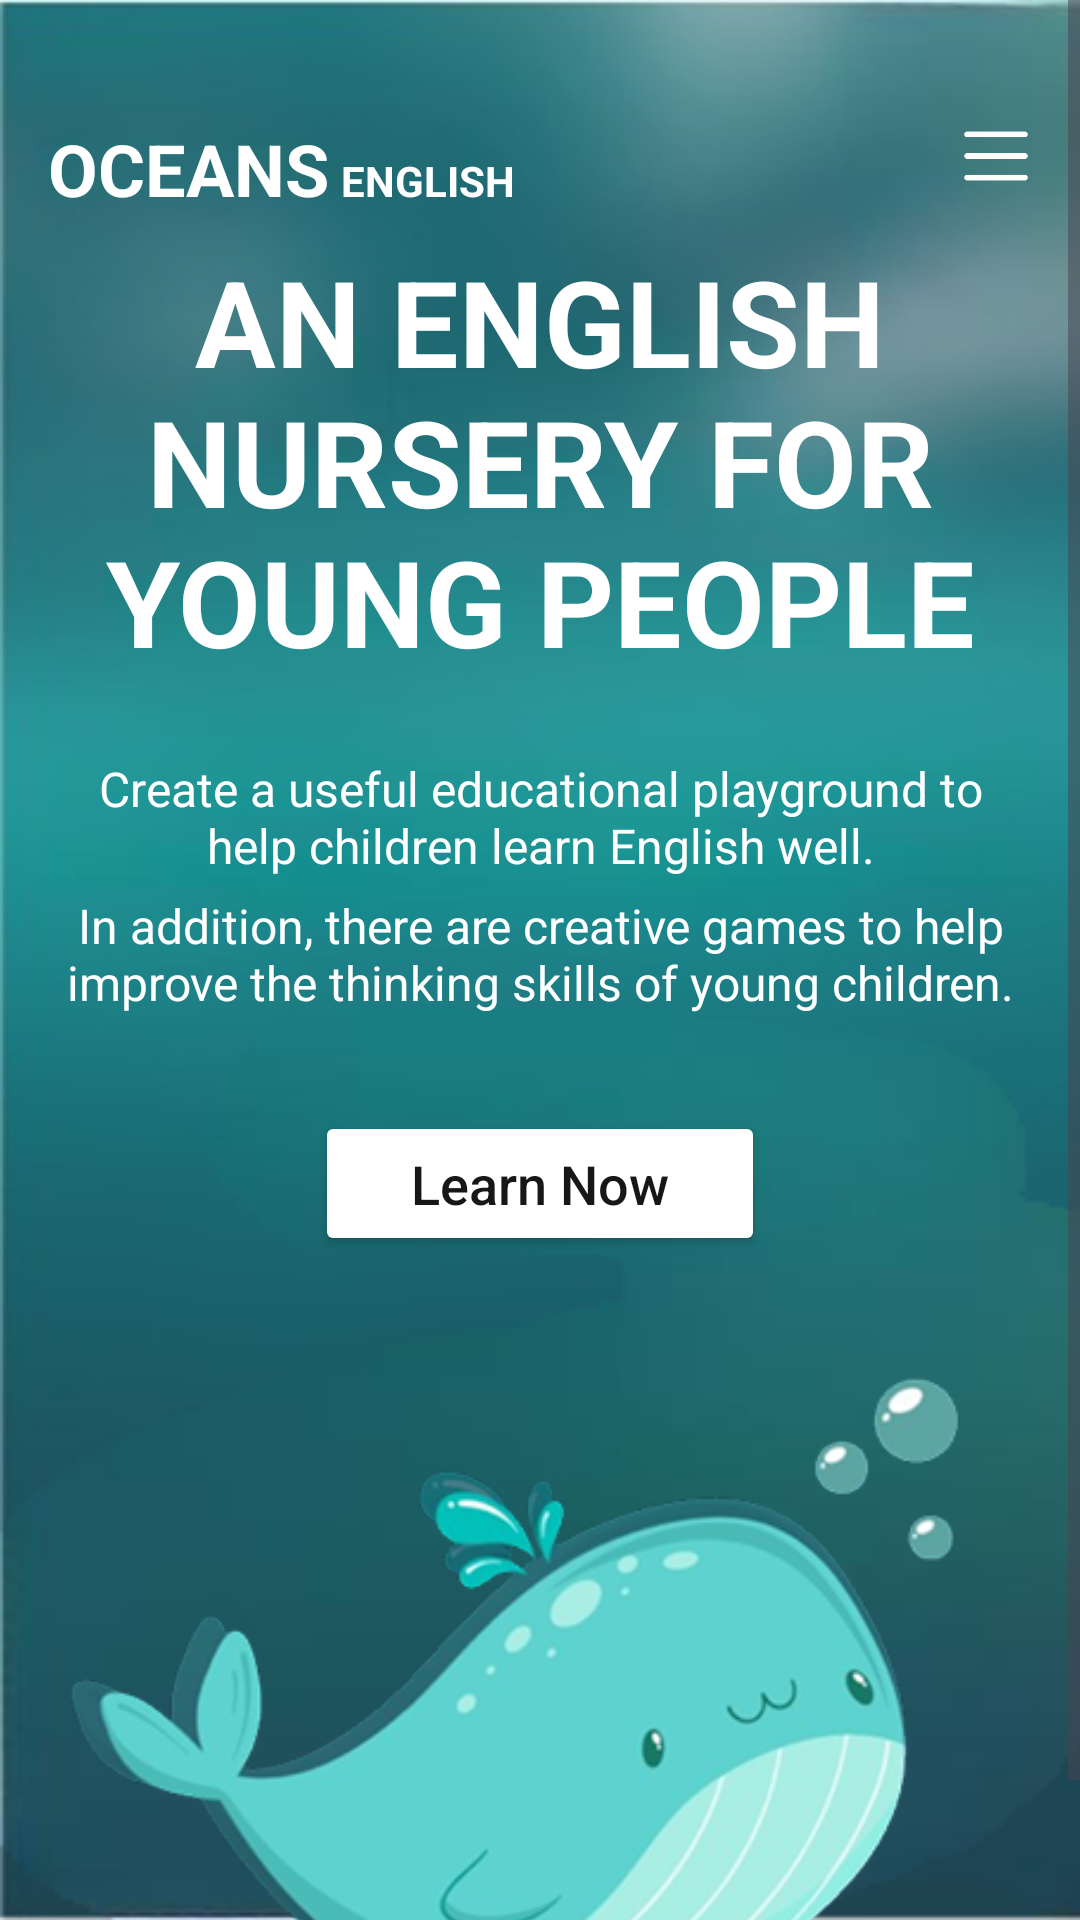

Named icons in this screenshot (1080x1920) and their centers, point (x, y):
Menu Icon: point (996, 156)
